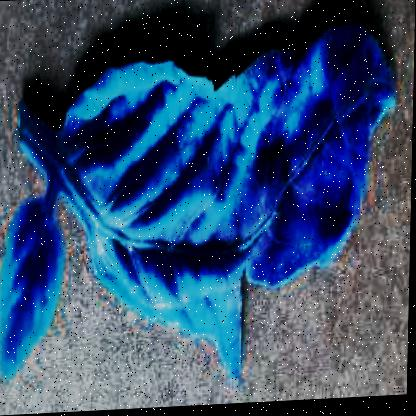Virus: (6, 21, 402, 401)
